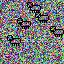sheep: (6, 34, 21, 46), (35, 12, 51, 23), (17, 17, 31, 29), (27, 1, 41, 12), (50, 26, 64, 37)
